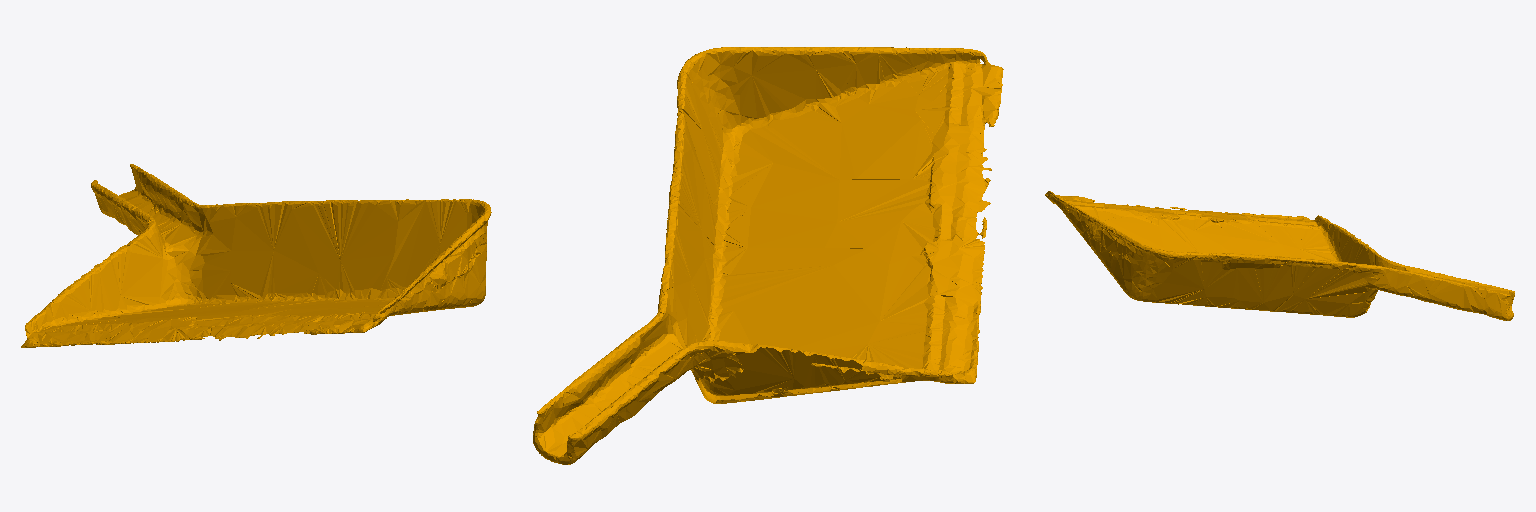
The robot description file, URDF, robot "bottle":
<?xml version="1.0"?>
<robot name="bottle">
  <link name="bottle">
    <visual>
      <origin xyz="0.0 0.0 0.0"/>
      <geometry>
        <mesh filename="bigdustpan.obj" scale="1.0 1.0 1.0"/>
      </geometry>
    </visual>
    <collision>
      <origin xyz="0.0 0.0 0.0"/>
      <geometry>
        <mesh filename="bigdustpan.obj" scale="1.0 1.0 1.0"/>
      </geometry>
    </collision>
    <inertial>
      <!-- Mass value from the *empty* spam can. Full spam can is 368g -->
      <mass value="0.026"/> 
      <inertia ixx="0.0001" ixy="0.0" ixz="0.0" iyy="0.0001" iyz="0.0" izz="0.0001"/>
    </inertial>
  </link>
</robot>

--- What the picture shows (computed from the rendered views, not written in the file) ---
The picture shows the robot from 3 angles, left to right: view 1: azimuth 30°, elevation 25°; view 2: azimuth 150°, elevation 25°; view 3: azimuth 270°, elevation 25°; orthographic projection.
Model bottle with 1 links and 0 joints (none), rooted at bottle, posed all joints at 0.
Links seen in each view (by area): view 1: bottle; view 2: bottle; view 3: bottle.
Link boxes in pixels (box(x1,y1,x2,y2)): bottle: box(21, 164, 491, 347); bottle: box(533, 47, 1003, 464); bottle: box(1045, 191, 1514, 320).
Bounding box of the posed robot: 0.2546 × 0.4025 × 0.1164 m (x, y, z).
1 mesh visuals loaded from 1 distinct referenced files (1 OBJ).
